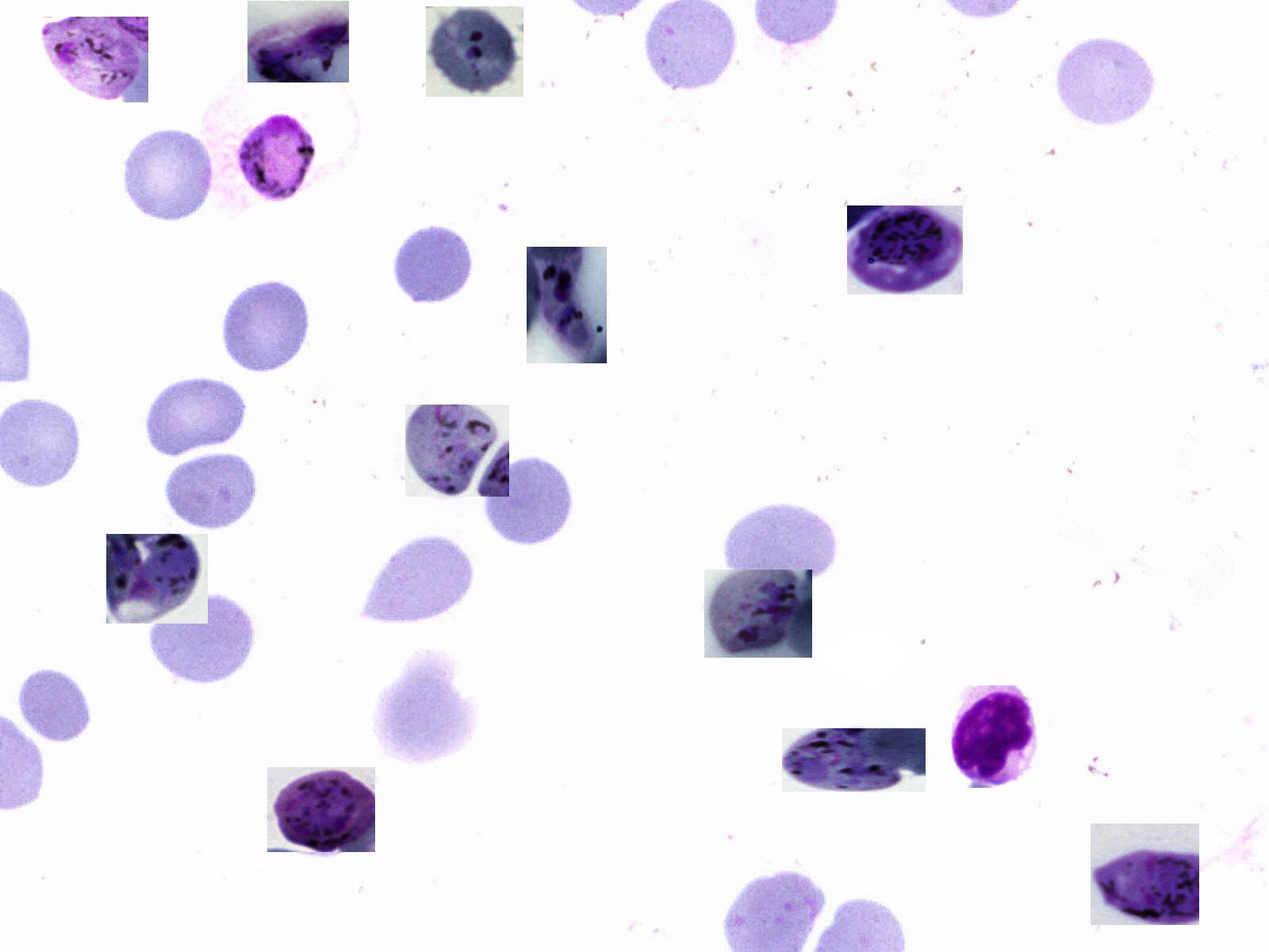Infected: (1091, 823, 1199, 925), (847, 205, 963, 294), (949, 685, 1048, 788), (405, 405, 509, 497), (704, 570, 812, 658), (527, 247, 607, 363), (39, 17, 148, 102), (782, 728, 926, 792), (106, 534, 208, 624), (267, 767, 375, 852), (426, 6, 523, 97), (247, 1, 349, 83), (237, 113, 316, 200)
Uninfected: (373, 651, 476, 764), (146, 589, 255, 688), (1051, 31, 1158, 129), (365, 528, 473, 623), (721, 500, 841, 579), (123, 126, 217, 223), (159, 448, 262, 532), (148, 374, 249, 459), (484, 457, 574, 550), (220, 282, 308, 374), (393, 218, 473, 304), (17, 664, 91, 743)
